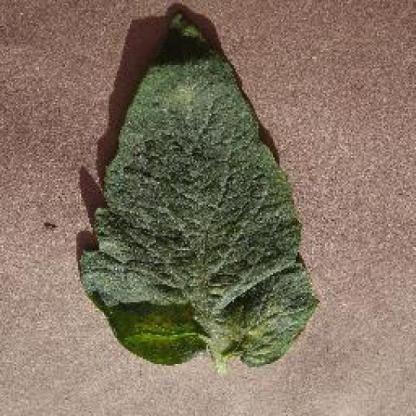Tomato_Spider_Mites: (77, 13, 318, 367)
